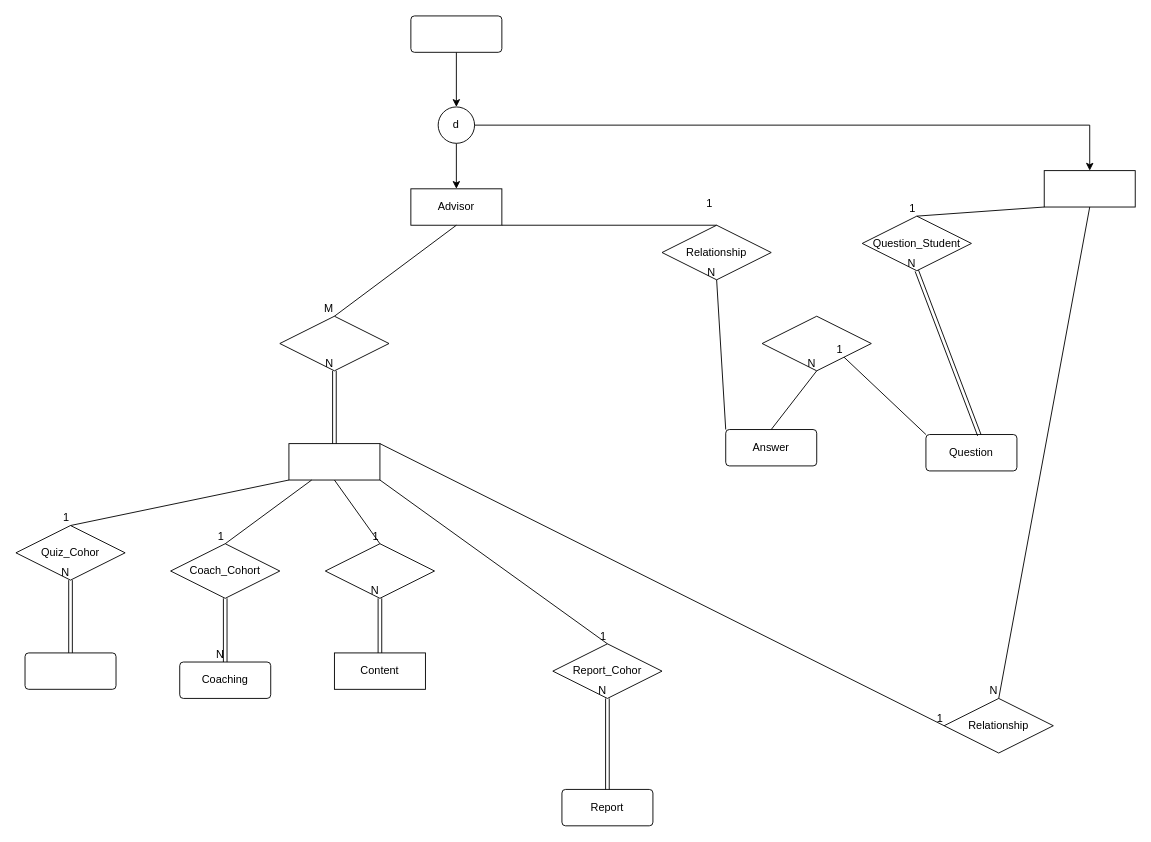
This 1151x842 diagram has some shape labels left out. The centre of each missing label's shape, as x and y in pixels:
"Advisor_Cohort" belongs at (x=334, y=343).
"Cohor_Content" belongs at (x=379, y=570).
"Cohort" belongs at (x=334, y=461).
"Question_Answer" belongs at (x=816, y=343).
"QuizReview" belongs at (x=70, y=670).
"Student" belongs at (x=1089, y=188).
"User" belongs at (x=456, y=33).
